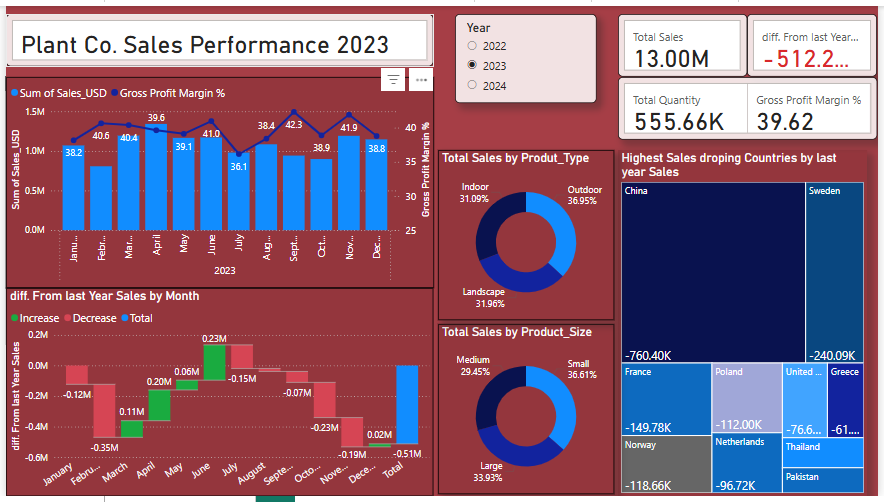

Layout of this report page (visuals, bound fields, positions):
{"tool":"powerbi","page":{"name":"Performance Report","canvas":[1280,720],"ordinal":0},"visuals":[{"type":"treemap","title":"Highest Sales droping Countries by last year Sales","fields":{"Group":["dim_Accounts.country"],"Values":["_Measure.Sales diff. From last Year"]},"box":[898.7,211.7,366.2,509],"z":0},{"type":"lineStackedColumnComboChart","fields":{"Category":["Data Table.Date.Variation.Date Hierarchy.Year","Data Table.Date.Variation.Date Hierarchy.Month"],"Y":["Sum(Plant_FACT.Sales_USD)"],"Y2":["_Measure.Gross Profit Margin"]},"box":[0,104.3,628.9,310],"z":1000},{"type":"donutChart","fields":{"Category":["dim_Plant.Product_Size"],"Y":["_Measure.Total Sales"]},"box":[635,467,258.7,250.3],"z":2000},{"type":"waterfallChart","fields":{"Category":["Data Table.Date.Variation.Date Hierarchy.Month"],"Y":["_Measure.Sales diff. From last Year"]},"box":[0,414.9,628.2,305.7],"z":3000},{"type":"slicer","fields":{"Values":["Data Table.Date.Variation.Date Hierarchy.Year"]},"box":[660.2,11.8,208.3,131],"z":4000},{"type":"cardVisual","fields":{"Data":["_Measure.Sales diff. From last Year"]},"box":[1088.5,11.8,191.5,92.4],"z":5000},{"type":"cardVisual","fields":{"Data":["_Measure.Total Quantity","_Measure.Gross Profit Margin %"]},"box":[898.7,104.1,381.3,92.4],"z":6000},{"type":"cardVisual","fields":{"Data":["_Measure.Total Sales"]},"box":[898.7,11.8,189.8,92.4],"z":7000},{"type":"donutChart","fields":{"Y":["_Measure.Total Sales"],"Category":["dim_Plant.Produt_Type"]},"box":[634.8,211.6,258.6,249.8],"z":8000},{"type":"cardVisual","fields":{"Data":["_Measure._Report Title"]},"box":[0,11.8,628.2,77.3],"z":9000}]}

Visuals, with their boxes in screenshot pixels (x1, y1, x2, y2), scaled from the page's 1280x720 canvas onto the 884x502 screenshot:
"Highest Sales droping Countries by last year Sales" treemap: l=621, t=148, r=874, b=501
lineStackedColumnComboChart - Data Table.Date.Variation.Date Hierarchy.Year x Data Table.Date.Variation.Date Hierarchy.Month: l=0, t=73, r=434, b=289
donutChart - dim_Plant.Product_Size x _Measure.Total Sales: l=439, t=326, r=617, b=500
waterfallChart - Data Table.Date.Variation.Date Hierarchy.Month x _Measure.Sales diff. From last Year: l=0, t=289, r=434, b=501
slicer - Data Table.Date.Variation.Date Hierarchy.Year: l=456, t=8, r=600, b=100
cardVisual - _Measure.Sales diff. From last Year: l=752, t=8, r=883, b=73
cardVisual - _Measure.Total Quantity x _Measure.Gross Profit Margin %: l=621, t=73, r=883, b=137
cardVisual - _Measure.Total Sales: l=621, t=8, r=752, b=73
donutChart - _Measure.Total Sales x dim_Plant.Produt_Type: l=438, t=148, r=617, b=322
cardVisual - _Measure._Report Title: l=0, t=8, r=434, b=62
